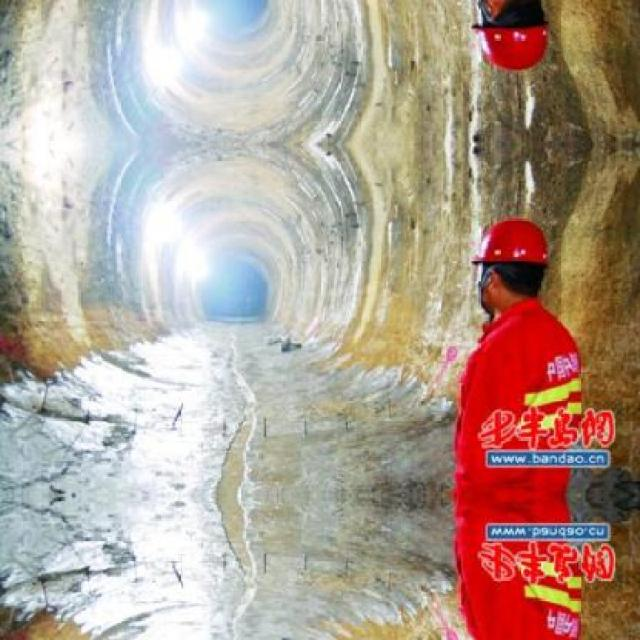helmet: (470, 211, 558, 309), (469, 0, 558, 77)
